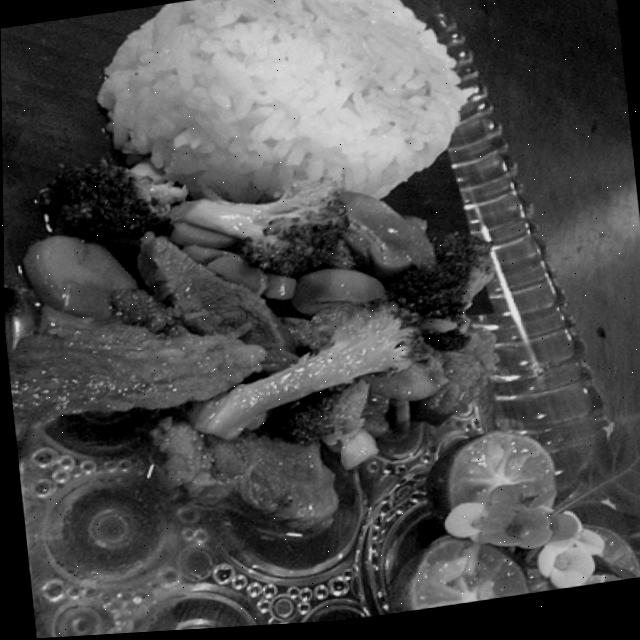牛肉菜式: (5, 0, 634, 640)
